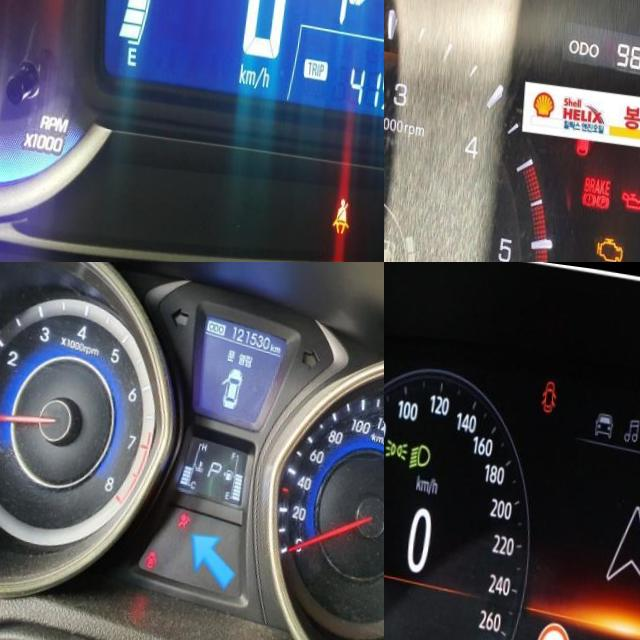Doors: (541, 369, 559, 406), (149, 541, 165, 563)
Low beam: (410, 436, 434, 467)
SideLamp: (386, 432, 410, 458)
